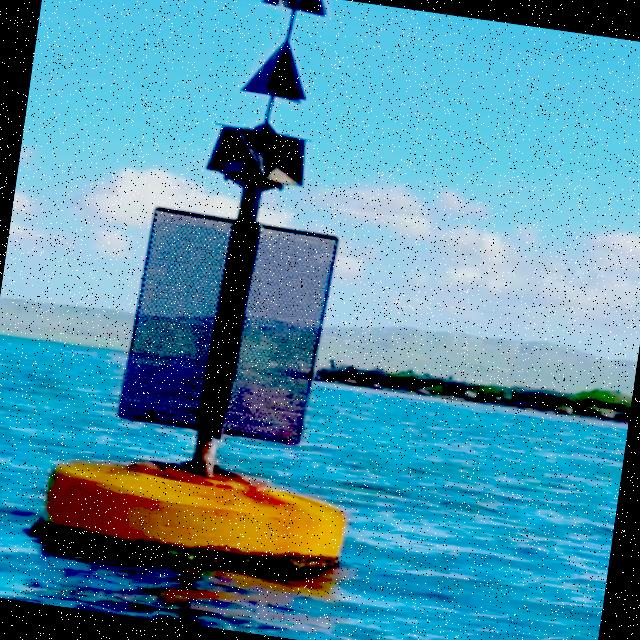marque: (21, 1, 414, 592)
